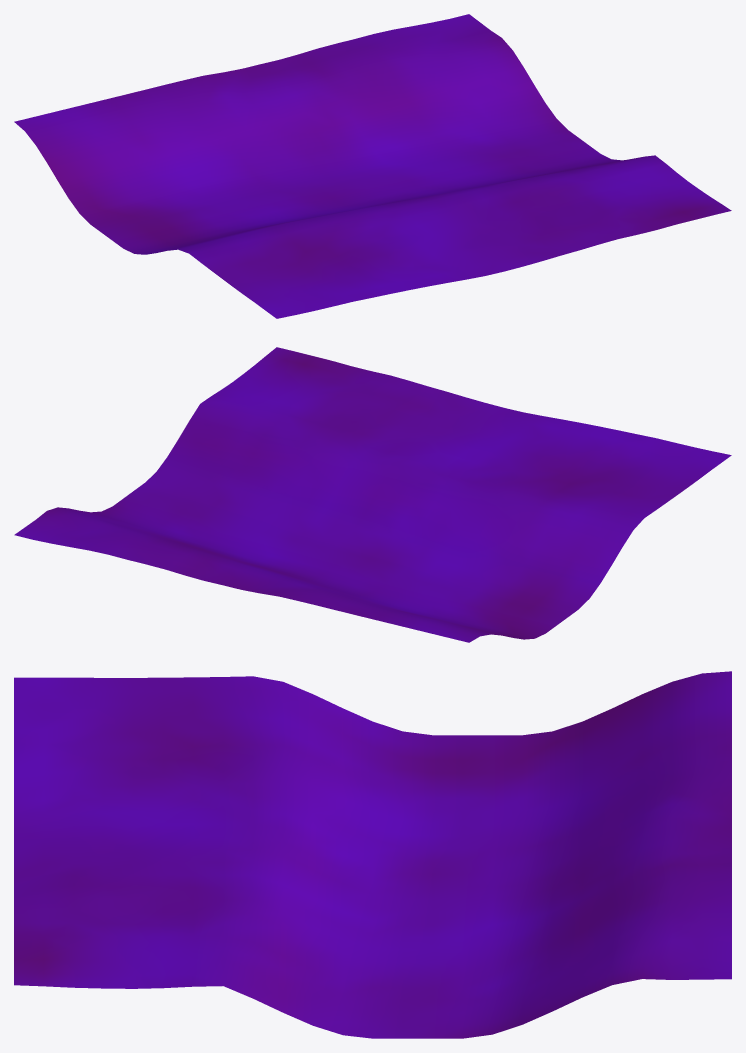
The model's file is ground_53.glb.
The picture shows the model from 3 angles, top to bottom: view 1: azimuth 30°, elevation 25°; view 2: azimuth 150°, elevation 25°; view 3: azimuth 270°, elevation 25°; orthographic projection. The views are drawn at different scales.
Parts seen in each view (by area): view 1: Ground_53; view 2: Ground_53; view 3: Ground_53.
Part boxes in pixels (x1,y1,x2,y2): Ground_53: [14, 14, 731, 318]; Ground_53: [14, 347, 731, 642]; Ground_53: [14, 671, 731, 1038].
Size of what is drawn, in the model's own units: 24 by 2.37 by 24.
